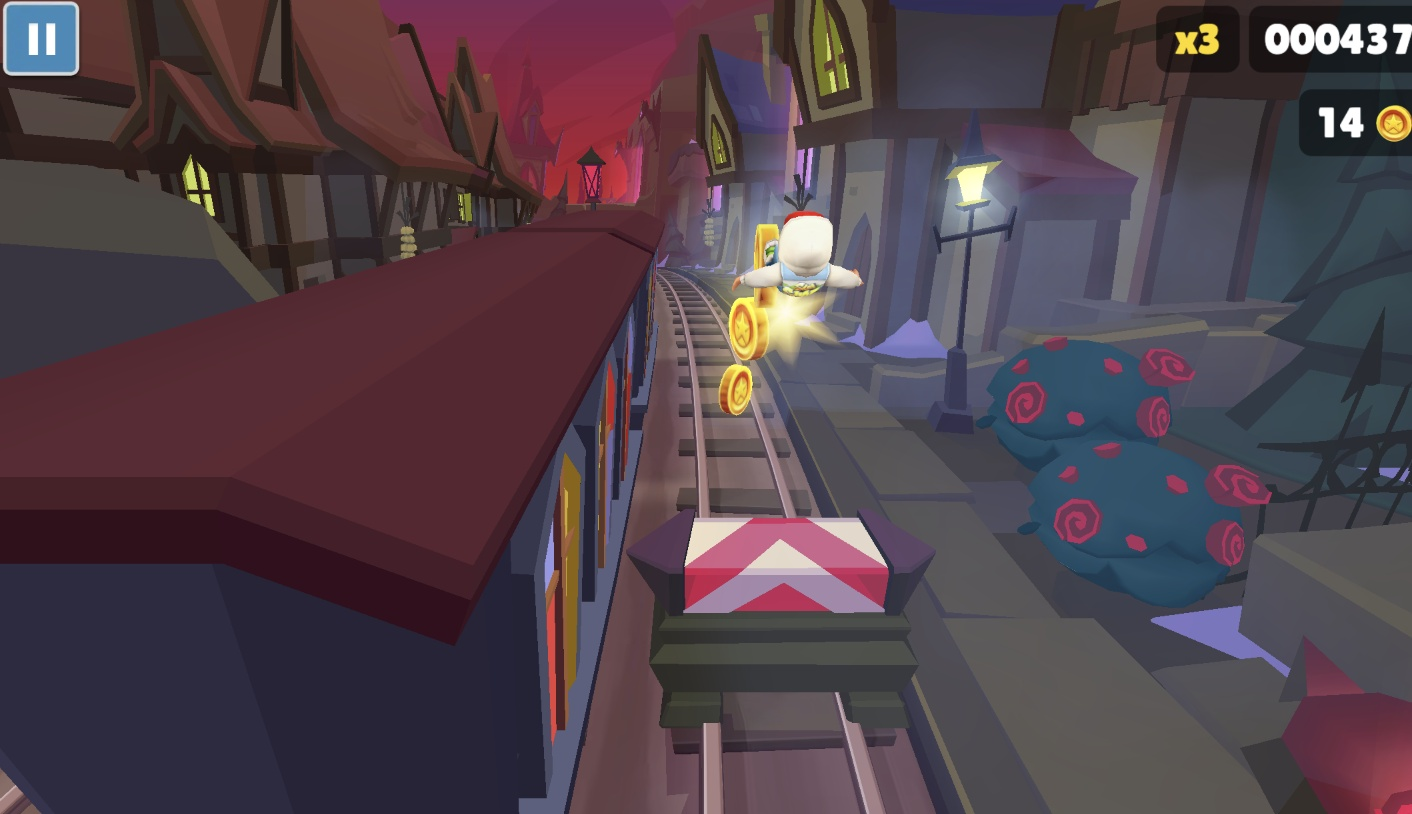ground_barrier: (626, 511, 937, 730)
train: (0, 207, 669, 814)
